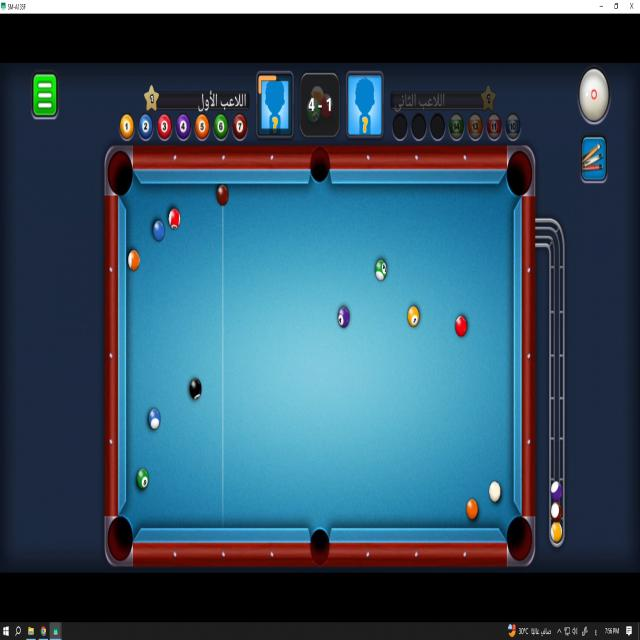object_ball: (190, 378, 202, 400), (153, 220, 165, 242), (375, 259, 386, 281), (217, 185, 228, 206), (408, 306, 419, 327), (338, 307, 349, 327), (137, 469, 148, 489), (149, 409, 160, 429), (128, 250, 139, 270), (466, 499, 477, 519), (169, 209, 180, 229), (455, 316, 466, 336)
white_cue_ball: (489, 481, 501, 503)
